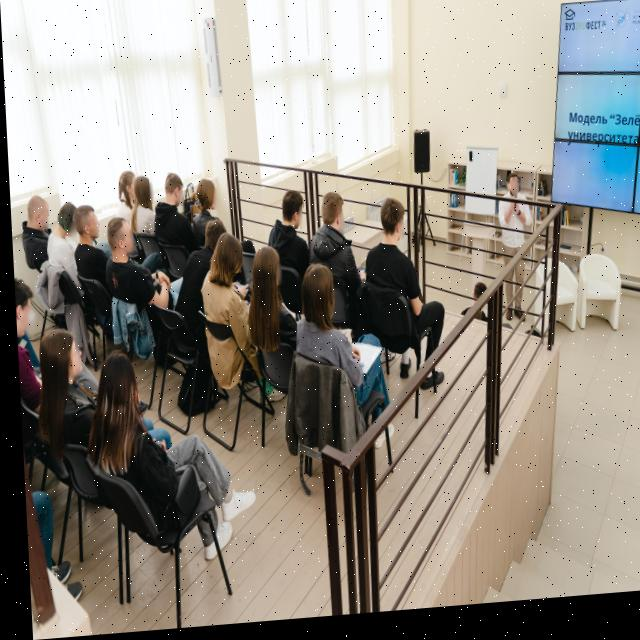Person: (87, 348, 256, 589), (356, 198, 447, 405), (199, 231, 254, 404), (32, 324, 102, 458), (295, 261, 354, 389), (243, 250, 294, 387), (11, 269, 49, 431), (493, 176, 527, 333), (255, 188, 312, 271), (306, 198, 355, 283), (180, 170, 226, 251), (71, 198, 109, 290), (107, 222, 140, 310), (109, 164, 146, 229), (130, 174, 162, 249), (53, 192, 77, 290), (20, 187, 50, 261), (154, 173, 188, 236)
